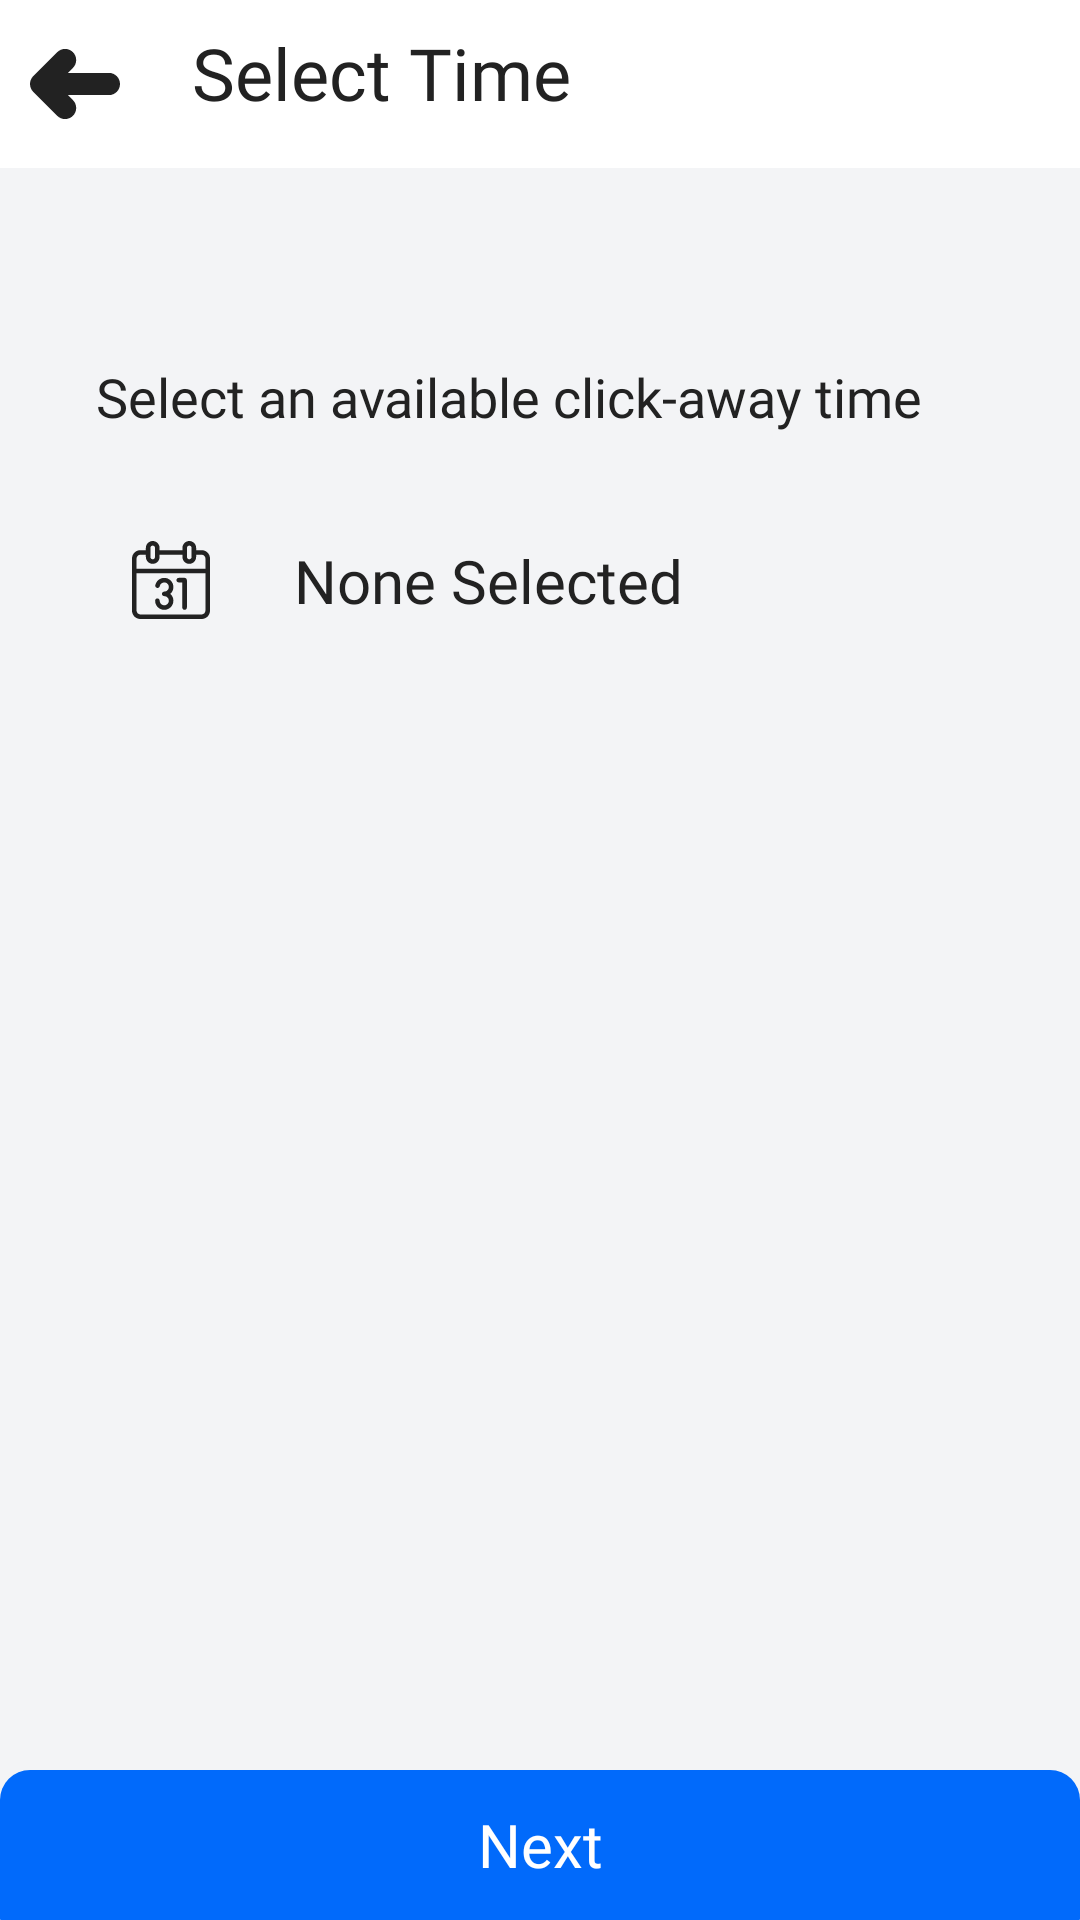

Where to tap for icons on this 1080x1920 app screen, as (x,y):
Back Button: (75,84)
calendar: (171,580)
